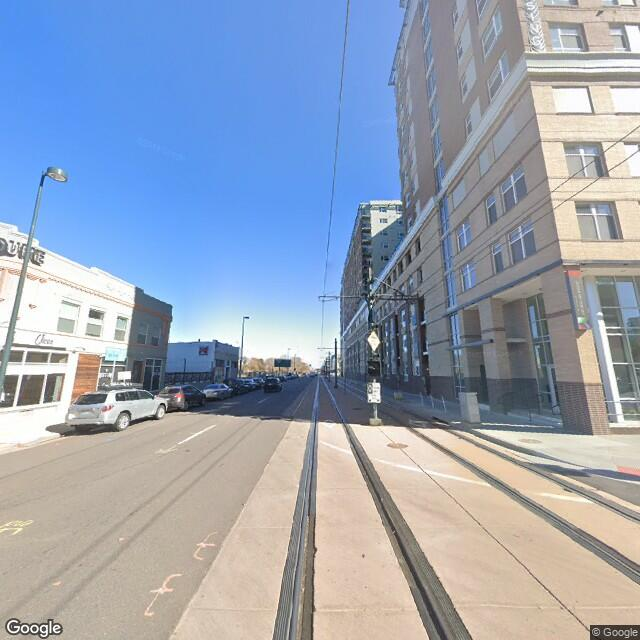lamp: (8, 159, 69, 362)
